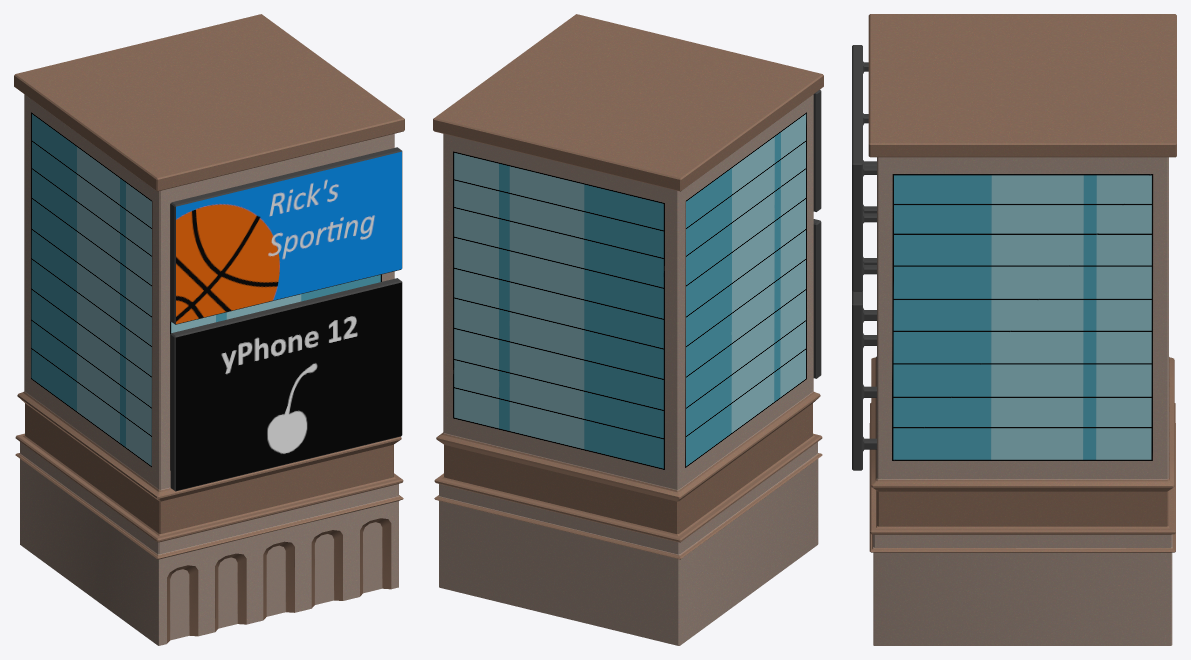
3 renders of one model, left to right at view 1: azimuth 30°, elevation 25°; view 2: azimuth 150°, elevation 25°; view 3: azimuth 270°, elevation 25°, orthographic. The views are drawn at different scales.
Parts seen in each view (by area): view 1: TS2; view 2: TS2; view 3: TS2.
Part boxes in pixels (box(x1,y1,x2,y2)): TS2: box(14, 14, 404, 645); TS2: box(433, 14, 823, 645); TS2: box(852, 14, 1176, 645).
Size of the model in its own units: 2000 by 3612 by 2108.
1 material, 1 textured.
